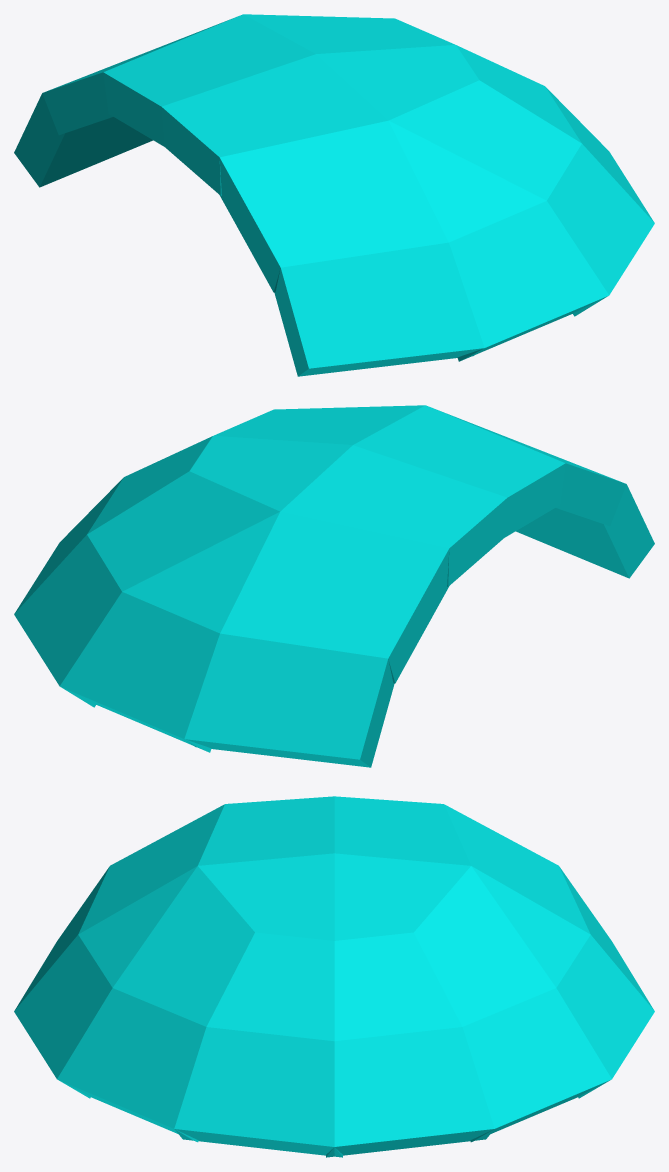
Rendered from SM_Bld_Roof_Thatch_Preset_Round_01_Collision.fbx.
The picture shows the model from 3 angles, top to bottom: view 1: azimuth 30°, elevation 25°; view 2: azimuth 150°, elevation 25°; view 3: azimuth 270°, elevation 25°; orthographic projection. The views are drawn at different scales.
Parts seen in each view (by area): view 1: SM_Bld_Roof_Thatch_Preset_Round_01_Collision; view 2: SM_Bld_Roof_Thatch_Preset_Round_01_Collision; view 3: SM_Bld_Roof_Thatch_Preset_Round_01_Collision.
Boxes of the visible parts, left/top/right/bottom form: SM_Bld_Roof_Thatch_Preset_Round_01_Collision: left=14, top=14, right=654, bottom=376; SM_Bld_Roof_Thatch_Preset_Round_01_Collision: left=14, top=405, right=654, bottom=767; SM_Bld_Roof_Thatch_Preset_Round_01_Collision: left=14, top=796, right=654, bottom=1157.
Size of the model in its own units: 357 by 148 by 470.
